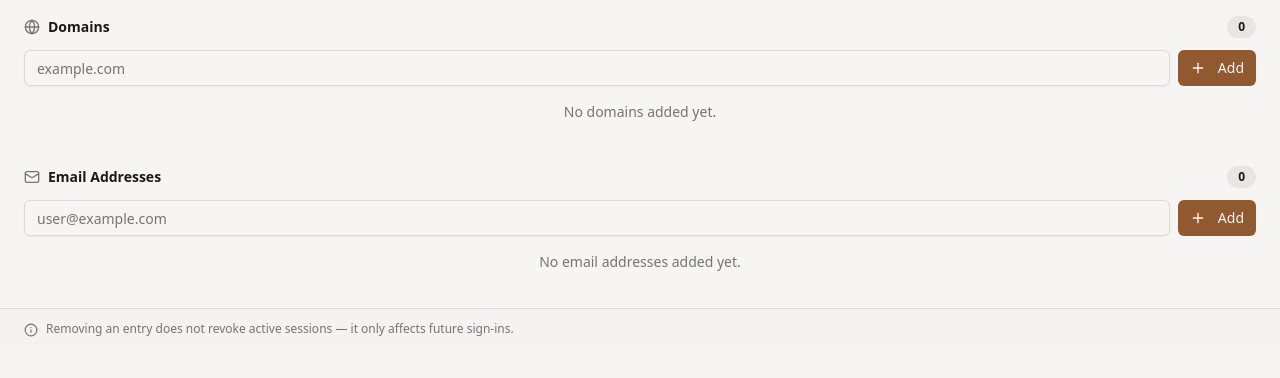
AllowlistPanel › shows empty input error when domain input is blank
Click the 1st button "Add": (1217, 68) [1178,50,1256,86]
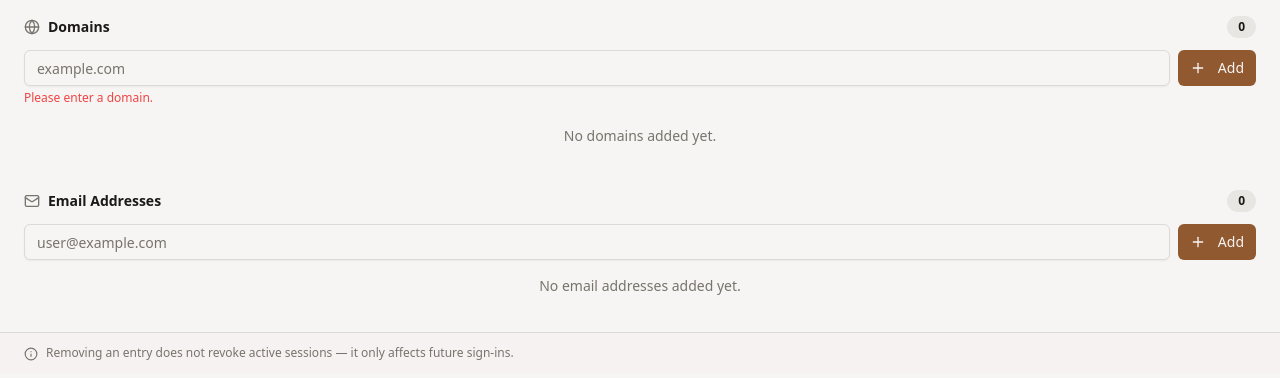
Result: the text "Please enter a domain" is shown at [24,89,153,106]
